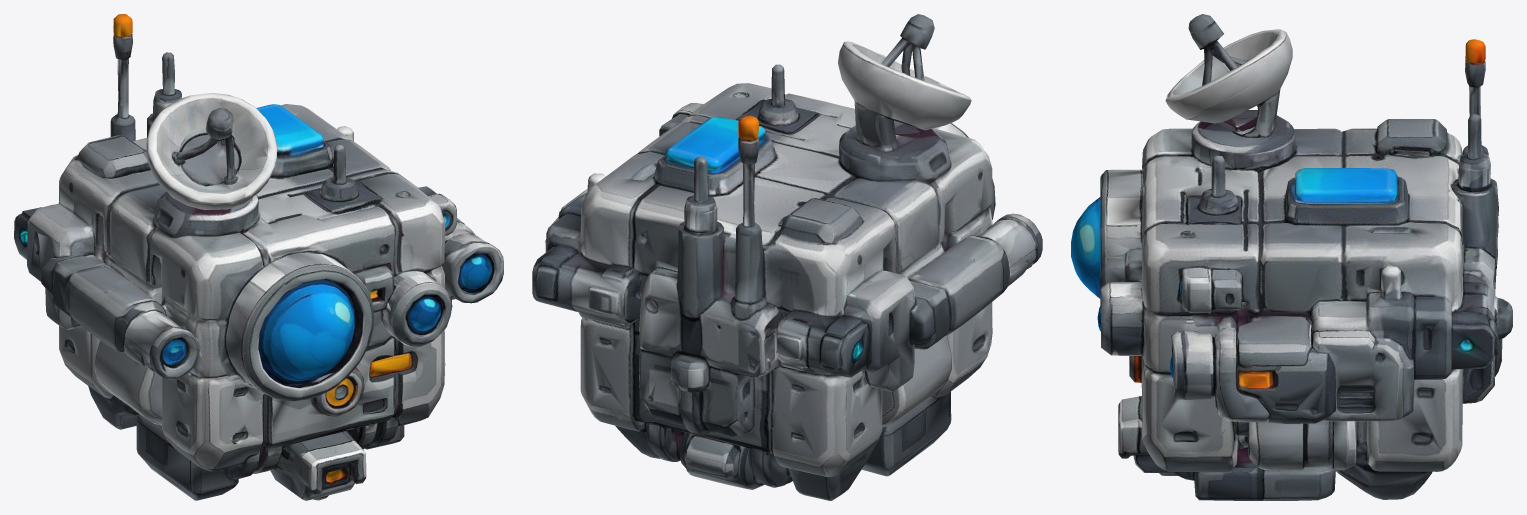
File: sat.glb
The picture shows the model from 3 angles, left to right: view 1: azimuth 30°, elevation 25°; view 2: azimuth 150°, elevation 25°; view 3: azimuth 270°, elevation 25°; orthographic projection. The views are drawn at different scales.
Visible parts, largest first — view 1: mesh_node; view 2: mesh_node; view 3: mesh_node.
Part boxes in pixels (bbox=[...]): mesh_node: bbox=[14, 14, 503, 500]; mesh_node: bbox=[532, 14, 1042, 500]; mesh_node: bbox=[1071, 14, 1512, 500].
Size of the model in its own units: 1.79 by 1.9 by 1.79.
1 material, 1 textured.
